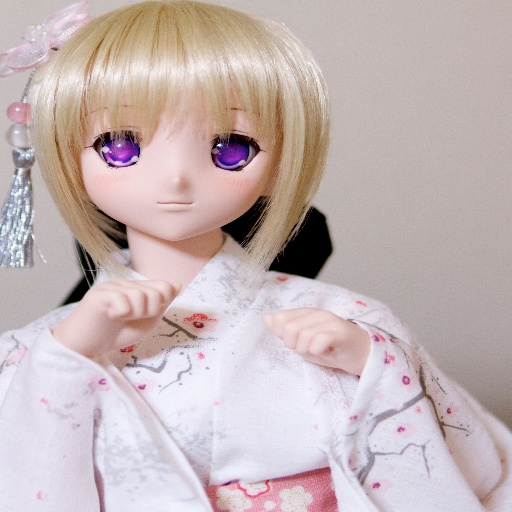hand: (67, 271, 184, 347), (261, 305, 368, 376)
